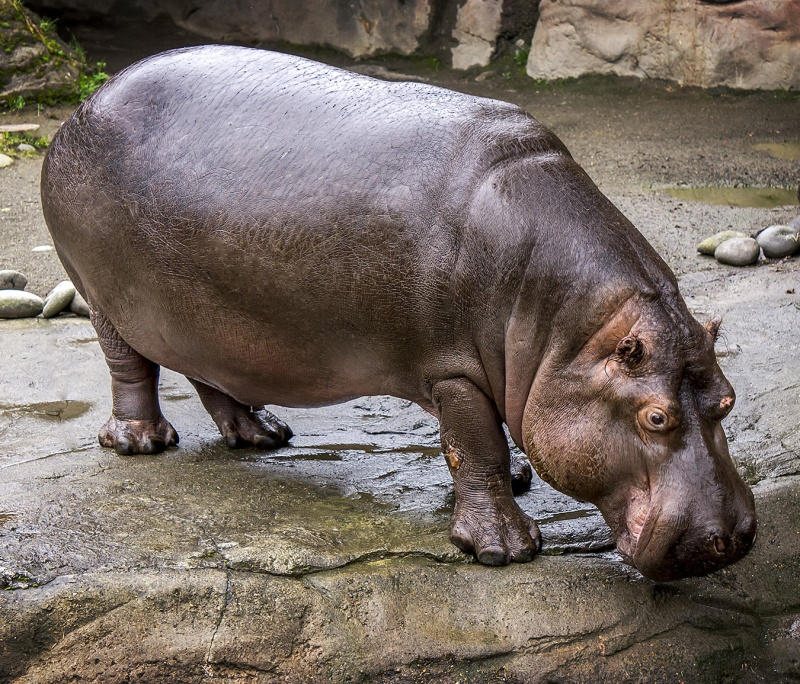hipopotamo: (36, 45, 763, 587)
